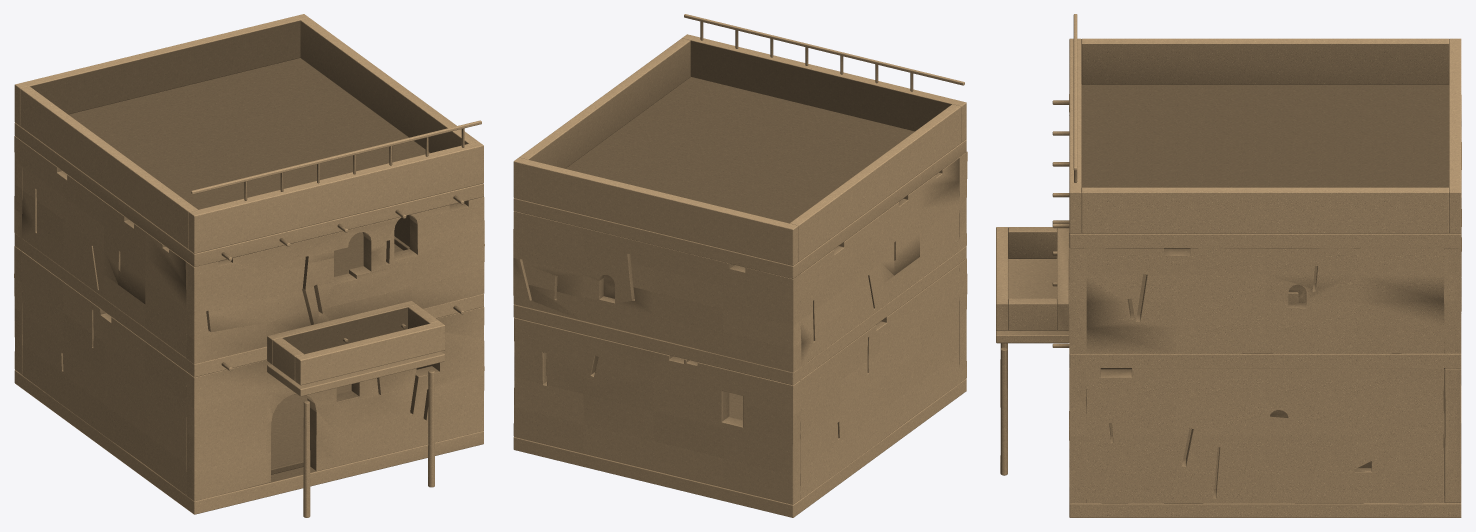
Rendered from house_27.glb.
3 views of the same model, side by side, from view 1: azimuth 30°, elevation 25°; view 2: azimuth 150°, elevation 25°; view 3: azimuth 270°, elevation 25° (orthographic). The views are drawn at different scales.
Parts seen in each view (by area): view 1: house; view 2: house; view 3: house.
Boxes of the visible parts, x1=… form: house: x1=14, y1=14, x2=484, y2=517; house: x1=513, y1=14, x2=967, y2=517; house: x1=996, y1=14, x2=1461, y2=517.
Size of the model in its own units: 8.99 by 9.49 by 11.43.
1 material, 1 textured.
